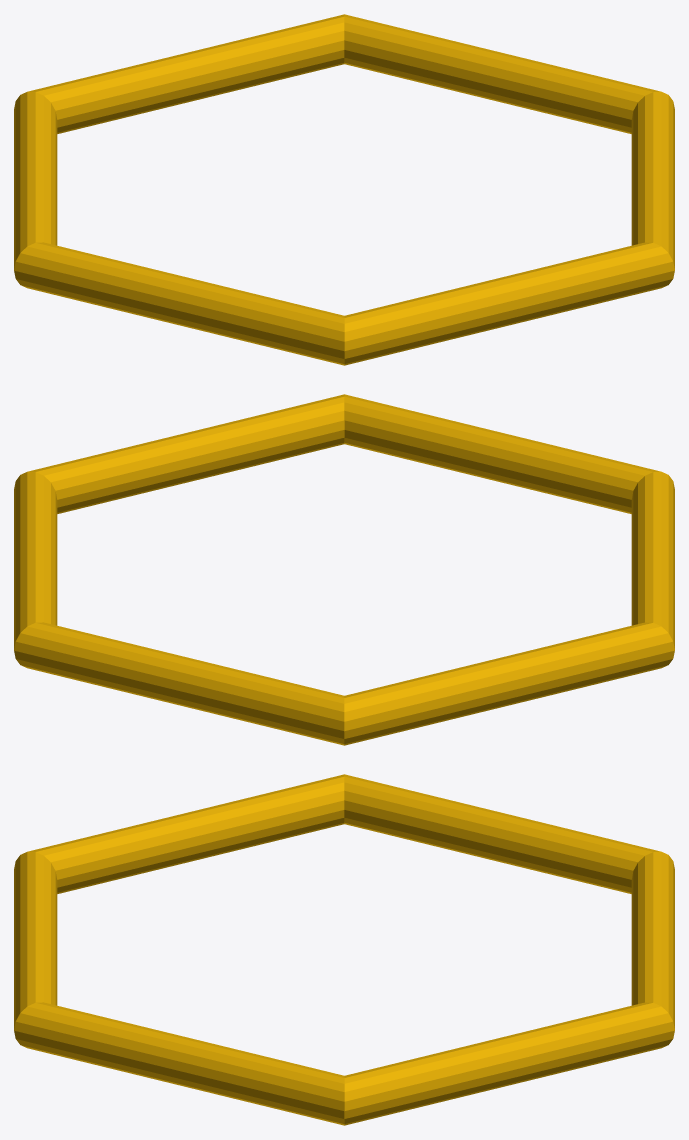
The model's file is hexagon.dae.
The picture shows the model from 3 angles, top to bottom: view 1: azimuth 30°, elevation 25°; view 2: azimuth 150°, elevation 25°; view 3: azimuth 270°, elevation 25°; orthographic projection.
Parts seen in each view (by area): view 1: Torus_002; view 2: Torus_002; view 3: Torus_002.
Boxes of the visible parts, box(x1,y1,x2,y2) form: Torus_002: box(14, 14, 674, 365); Torus_002: box(14, 394, 674, 745); Torus_002: box(14, 774, 674, 1125).
Bounding box in the file's own units: 2.14 × 1.85 × 0.14.
